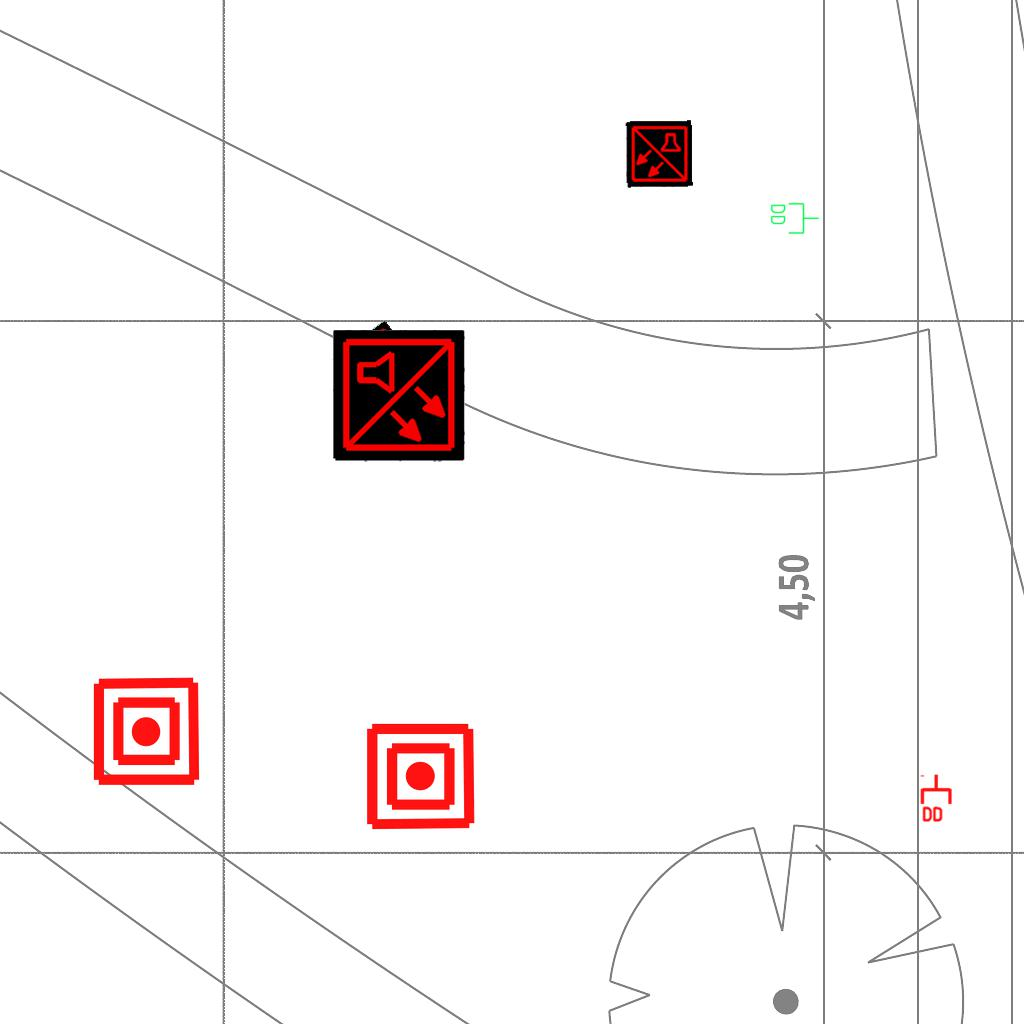Datenanschluss_zweifach: (769, 201, 820, 235), (920, 773, 954, 824)
NAM-Nichtautomatischer_Melder: (364, 720, 477, 833), (90, 675, 203, 788)
OKW_Multisensormelder_(Kombination_optischer_Rauch-Kahlenmonoxid_Waerme-Melder): (333, 330, 465, 462), (331, 319, 425, 413), (625, 120, 693, 188)
